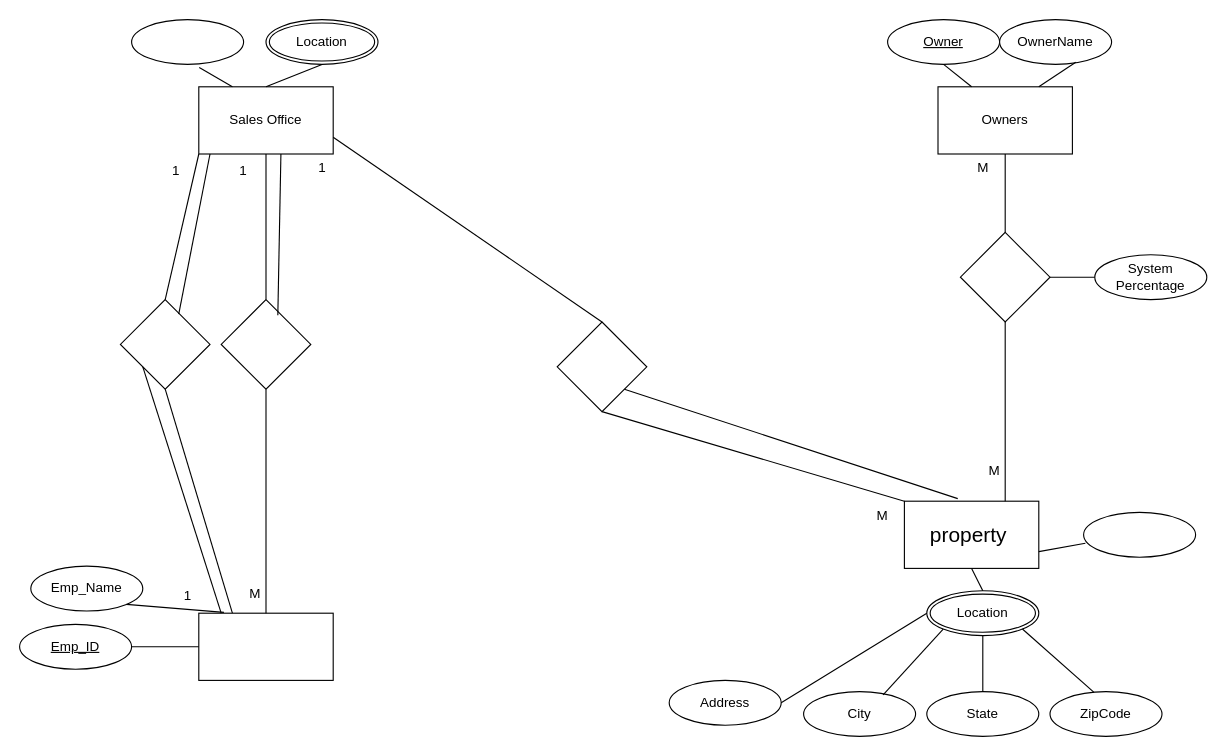
This 1226x756 diagram has some shape labels left out. The box of each missing label's shape, as (x1, y1, x2, y2) in pixels:
Be Listed: (556, 321, 647, 412)
Empolyee: (198, 612, 333, 680)
Mange: (119, 298, 210, 389)
Office_Number: (130, 18, 244, 64)
Own: (959, 231, 1050, 322)
Prop_ID: (1082, 511, 1196, 557)
Work: (220, 298, 311, 389)
